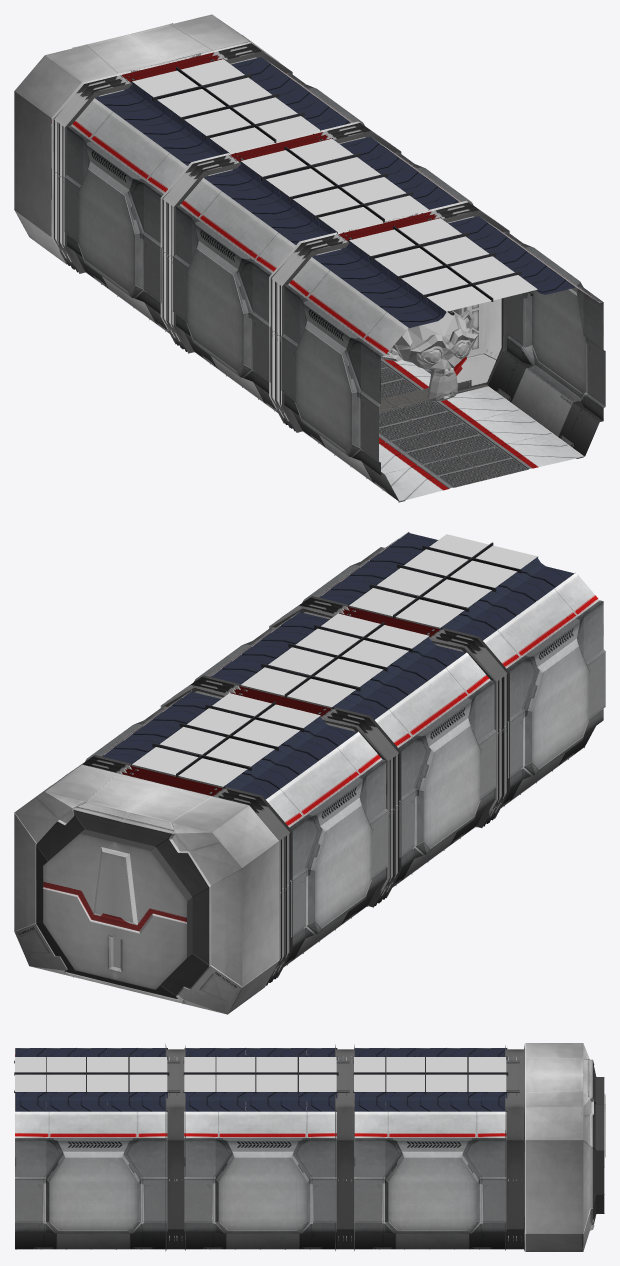
The model's file is monkey.fbx.
The picture shows the model from 3 angles, top to bottom: view 1: azimuth 30°, elevation 25°; view 2: azimuth 150°, elevation 25°; view 3: azimuth 270°, elevation 25°; orthographic projection. The views are drawn at different scales.
Visible parts, largest first — view 1: polySurface68; view 2: polySurface68; view 3: polySurface68.
Boxes of the visible parts, box(x1,y1,x2,y2) form: polySurface68: box(14, 14, 605, 502); polySurface68: box(14, 531, 605, 1014); polySurface68: box(14, 1043, 605, 1251).
Size of the model in its own units: 0.2961 by 0.217 by 0.8188.
